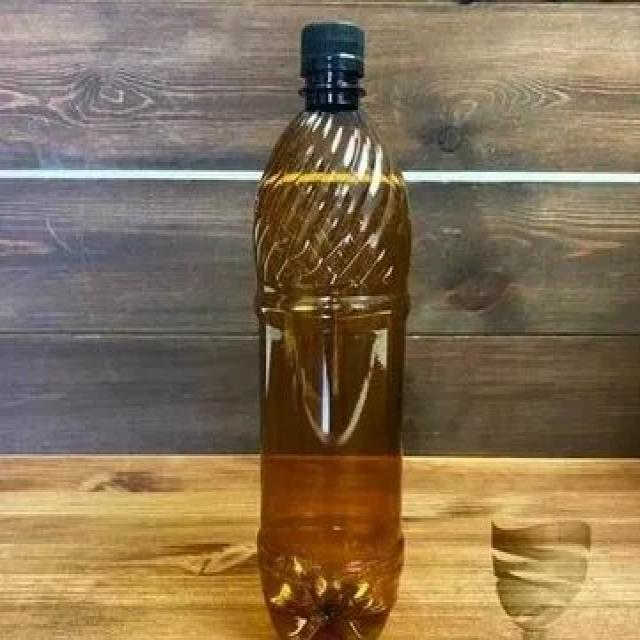brown: (254, 85, 411, 640)
